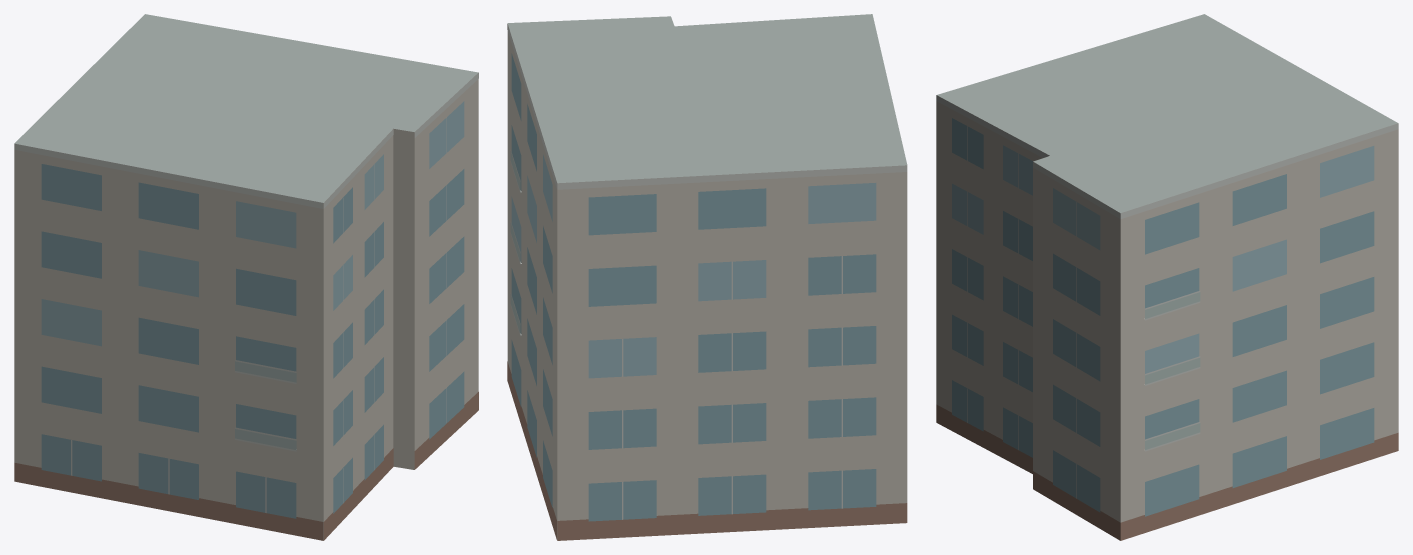
File: survey-upis-32689561.glb
3 views of the same model, side by side, from view 1: azimuth 30°, elevation 25°; view 2: azimuth 150°, elevation 25°; view 3: azimuth 270°, elevation 25° (orthographic). The views are drawn at different scales.
Parts seen in each view (by area): view 1: survey-upis-32689561.tmp; view 2: survey-upis-32689561.tmp; view 3: survey-upis-32689561.tmp.
Boxes of the visible parts, x1,y1,x2,y2 form: survey-upis-32689561.tmp: (14,14,478,540); survey-upis-32689561.tmp: (507,14,907,540); survey-upis-32689561.tmp: (936,14,1398,540).
Bounding box in the file's own units: 17.35 × 13.3 × 17.01.
